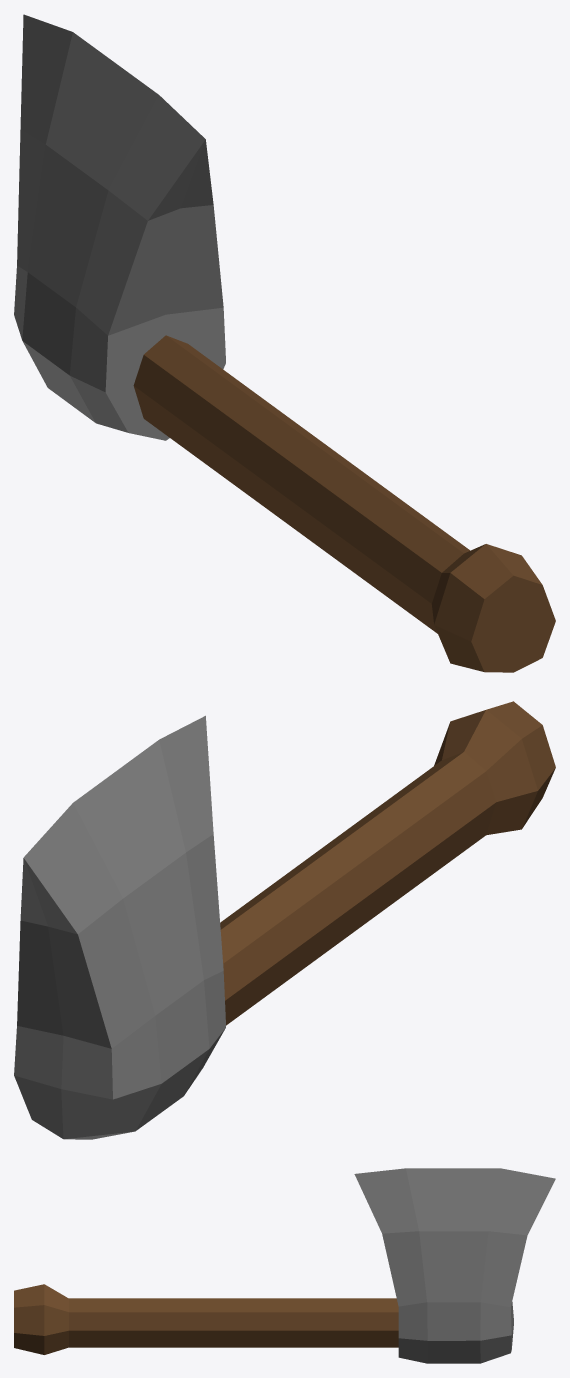
The model's file is Axe.fbx.
3 renders of one model, top to bottom at view 1: azimuth 30°, elevation 25°; view 2: azimuth 150°, elevation 25°; view 3: azimuth 270°, elevation 25°, orthographic. The views are drawn at different scales.
Parts seen in each view (by area): view 1: Axe; view 2: Axe; view 3: Axe.
Boxes of the visible parts, <box> form: Axe: <box>14,14,555,672</box>; Axe: <box>14,701,555,1139</box>; Axe: <box>14,1168,555,1363</box>.
Size of the model in its own units: 30 by 71.99 by 182.
1 material, 1 textured.
